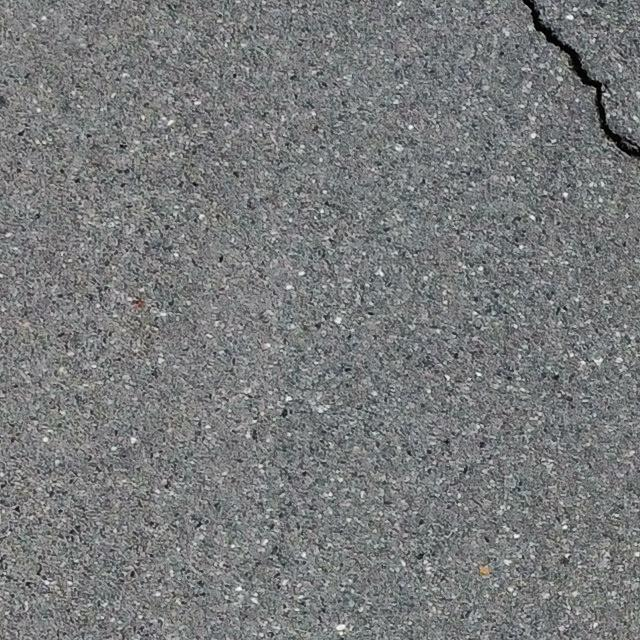LongitudinalCrack: (523, 1, 640, 158)
